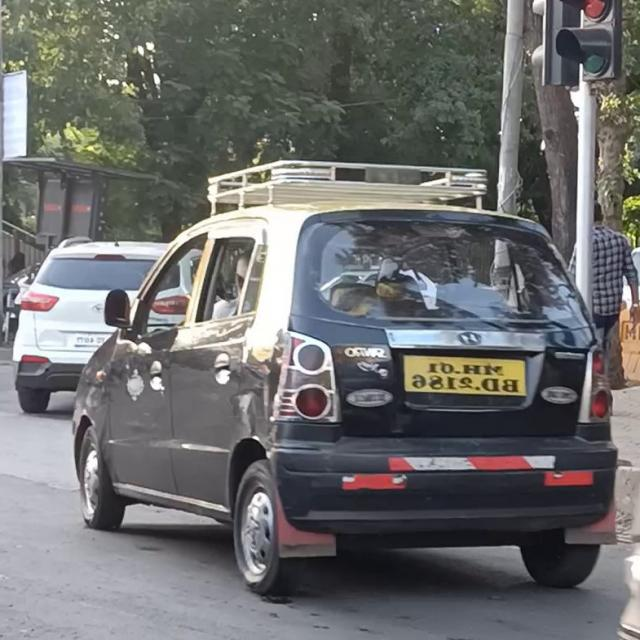license_plate: (392, 352, 532, 402)
